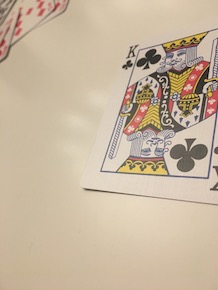KingOfClubs: (79, 15, 218, 206)
